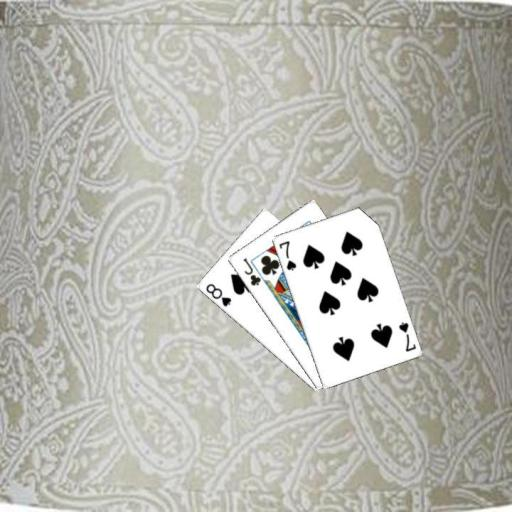7S: (275, 238, 297, 272), (396, 319, 418, 353)
8S: (202, 280, 232, 309)
JC: (240, 255, 263, 287)
